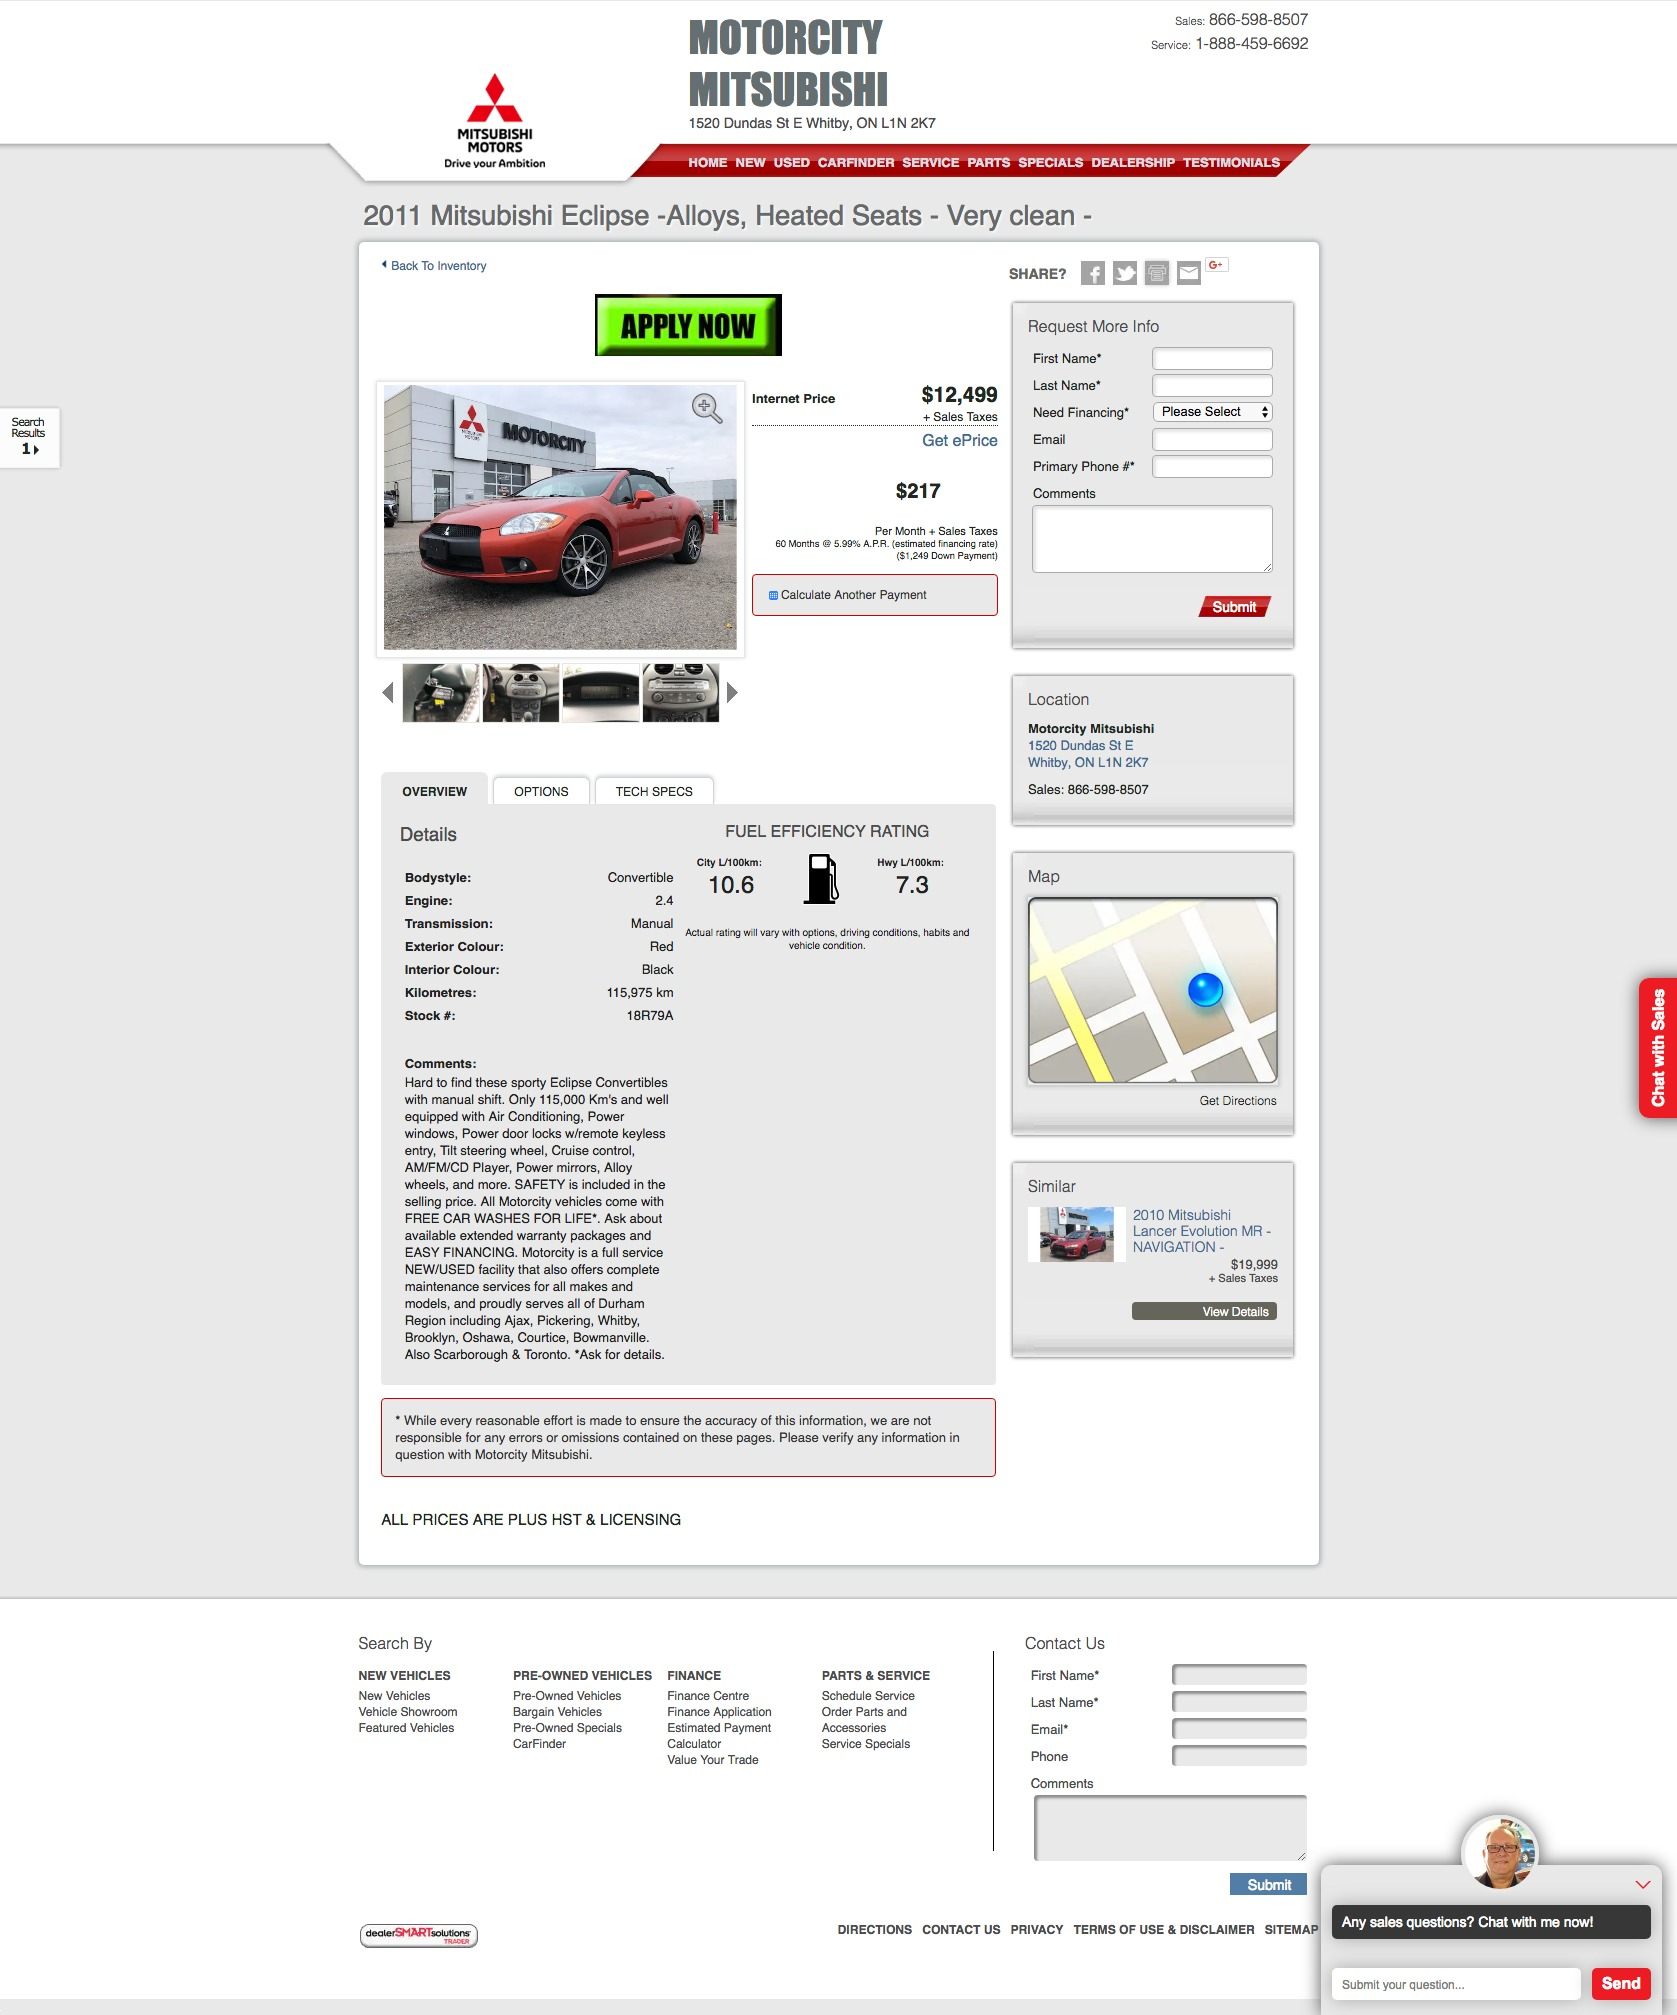car: (726, 681, 740, 705)
